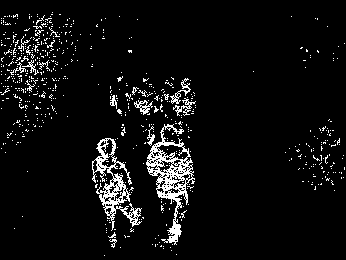person: (89, 138, 144, 248), (148, 125, 192, 243), (131, 74, 160, 142), (109, 70, 131, 137), (175, 78, 198, 140), (162, 77, 176, 138)
